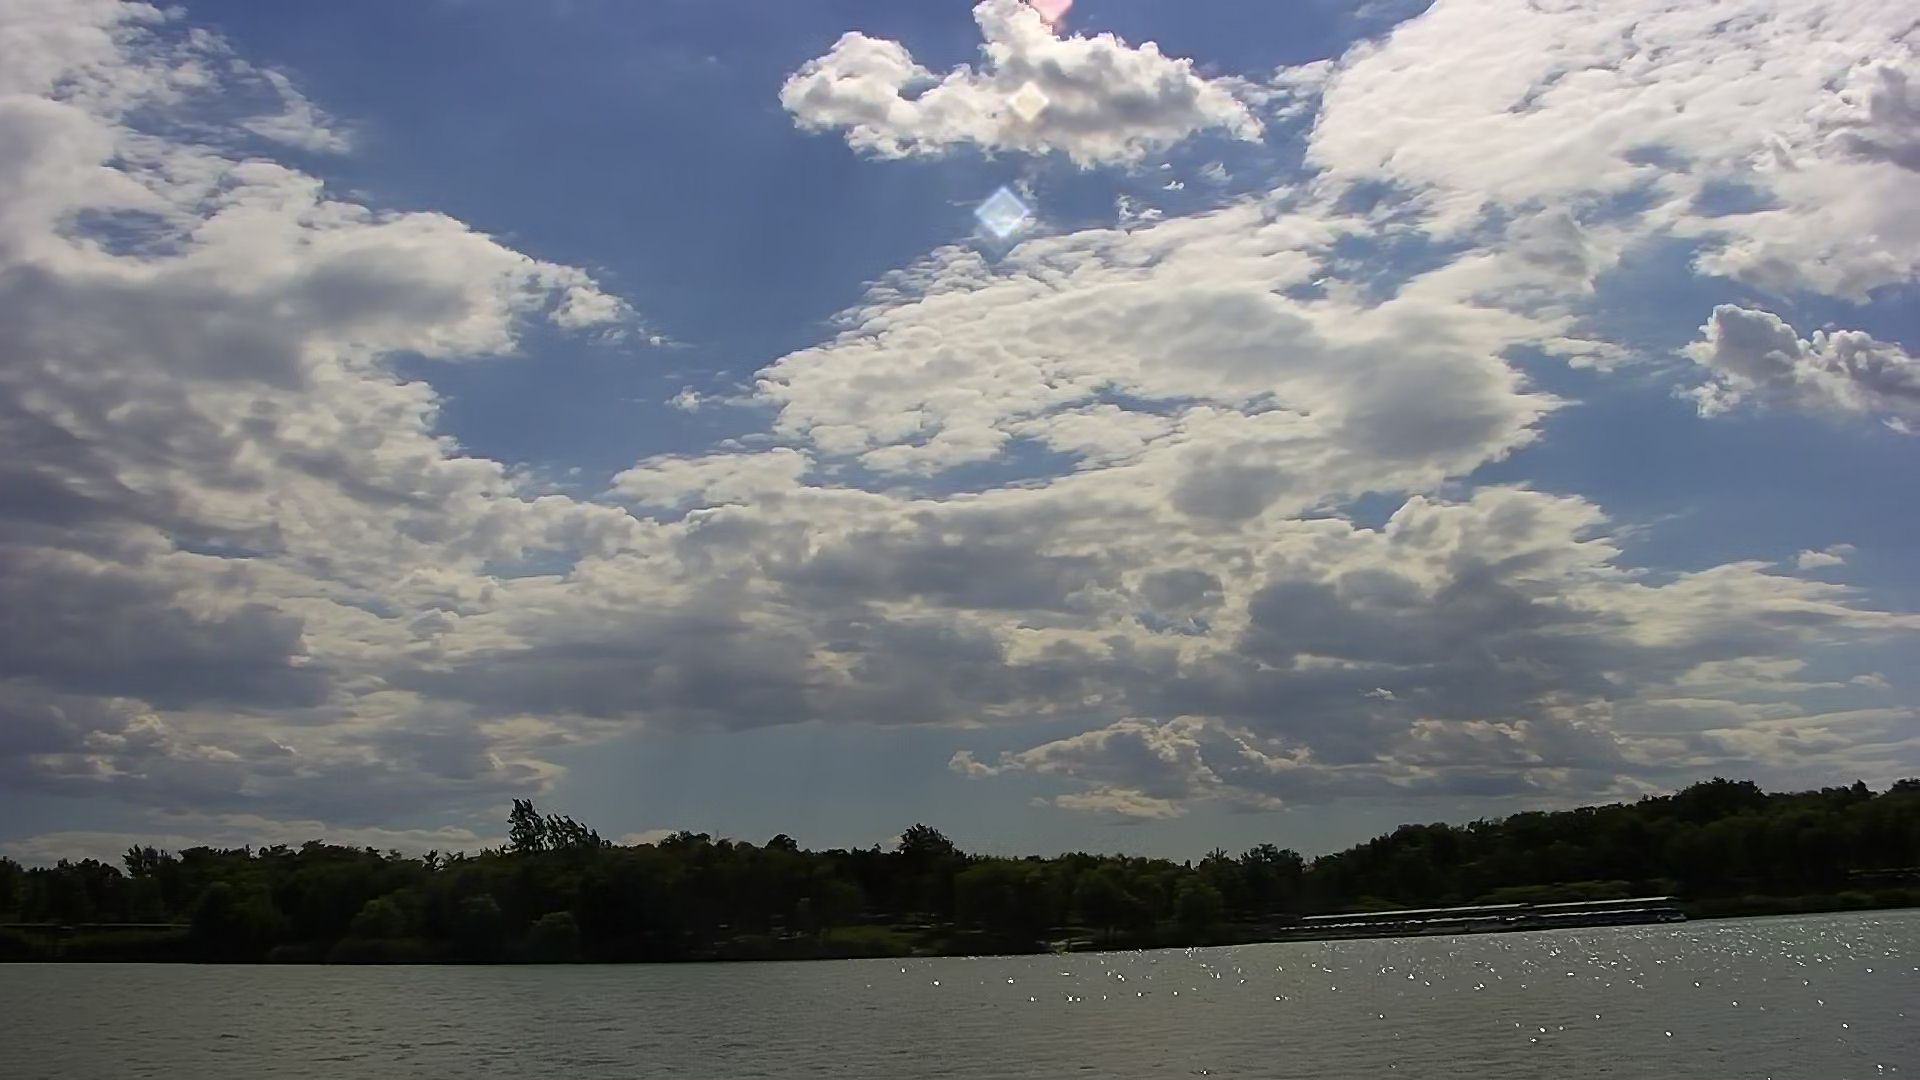harbor: (1259, 882, 1697, 942)
